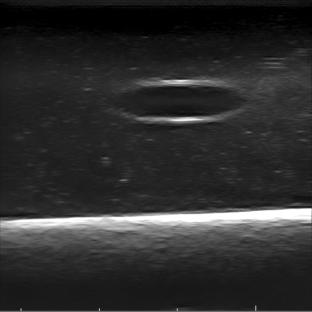vessel: (109, 78, 247, 125)
